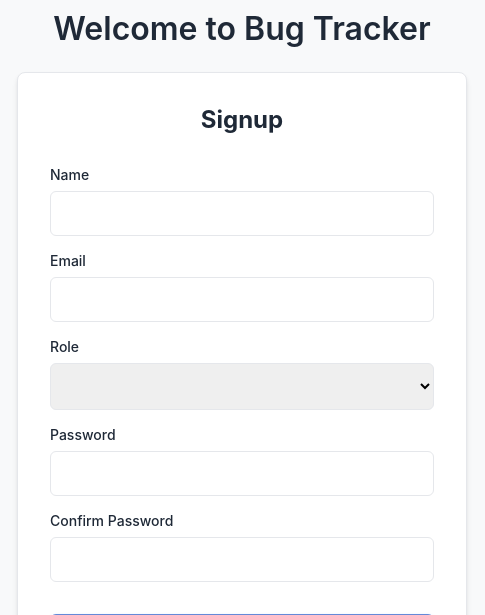
Test: Signup flow › shows name required error
Focus the field with test id "name-input". click: (242, 214)
box: [50,191,434,236]
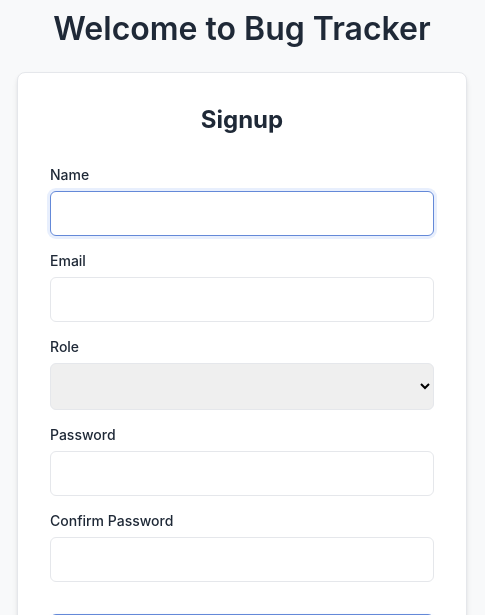
Leave the field with test id "name-input", box [50,191,434,236]
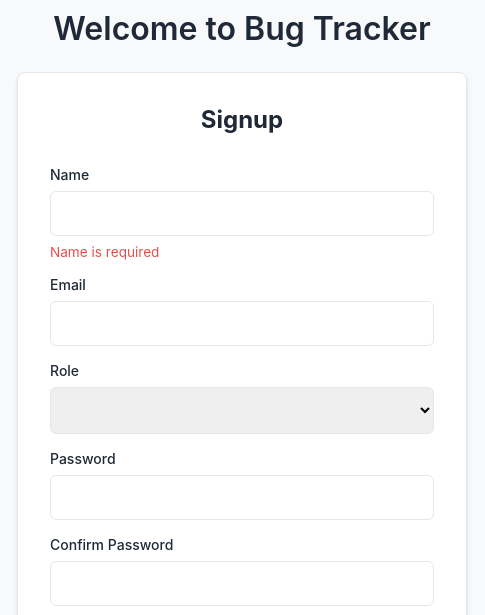
Check: the text "Name is required" is shown, box [50,244,159,260]
